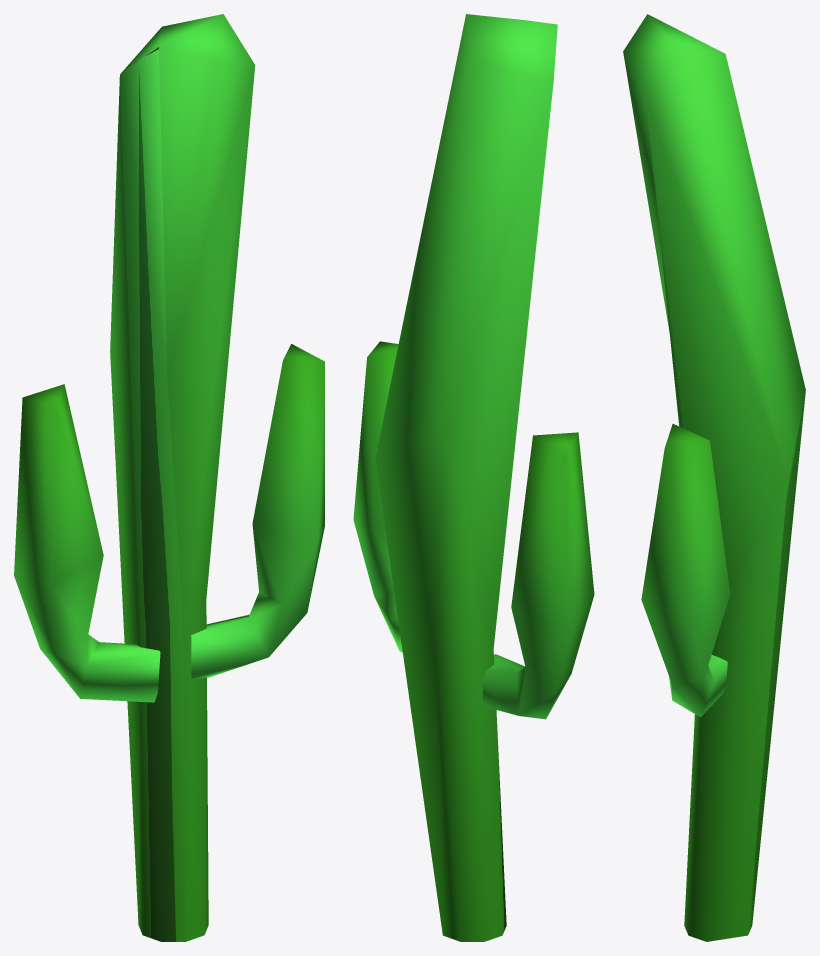
File: Cactus.fbx
The picture shows the model from 3 angles, left to right: view 1: azimuth 30°, elevation 25°; view 2: azimuth 150°, elevation 25°; view 3: azimuth 270°, elevation 25°; orthographic projection. The views are drawn at different scales.
Visible parts, largest first — view 1: Cactus.002; view 2: Cactus.002; view 3: Cactus.002.
Boxes of the visible parts, x1=… form: Cactus.002: x1=14, y1=14, x2=324, y2=941; Cactus.002: x1=353, y1=14, x2=594, y2=941; Cactus.002: x1=623, y1=14, x2=805, y2=941.
Bounding box in the file's own units: 73.44 × 243 × 45.11.
